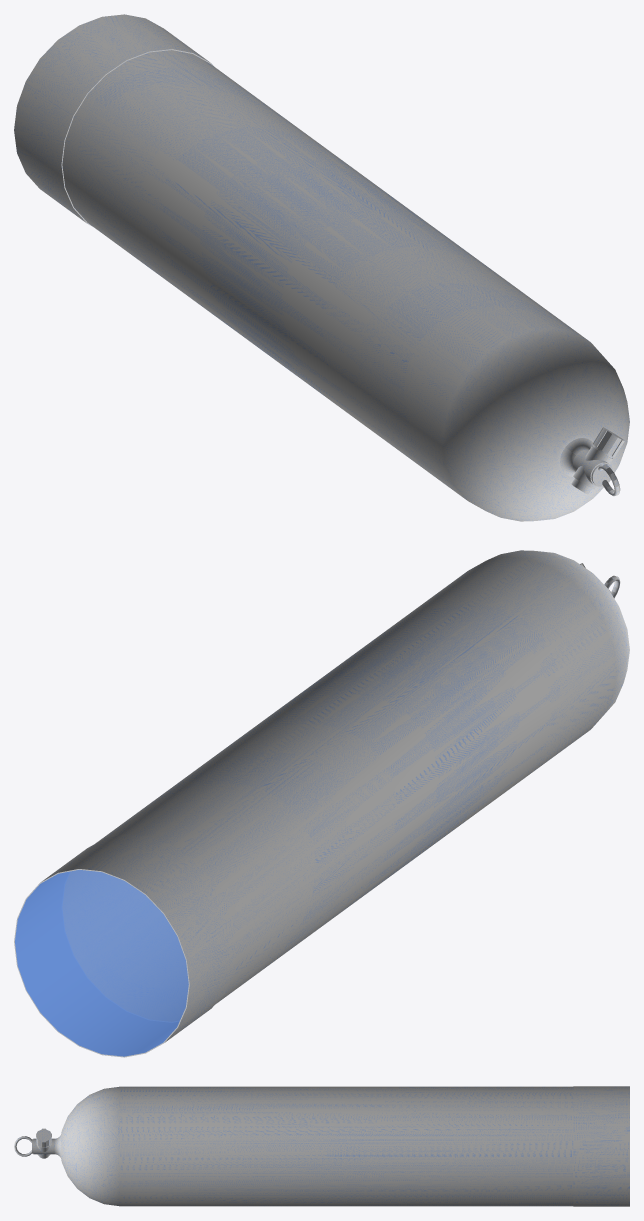
File: model_align.obj
The picture shows the model from 3 angles, top to bottom: view 1: azimuth 30°, elevation 25°; view 2: azimuth 150°, elevation 25°; view 3: azimuth 270°, elevation 25°; orthographic projection. The views are drawn at different scales.
Parts seen in each view (by area): view 1: mesh1_mesh1-geometry; view 2: mesh1_mesh1-geometry; view 3: mesh1_mesh1-geometry.
Boxes of the visible parts, box(x1,y1,x2,y2) form: mesh1_mesh1-geometry: box(14, 14, 629, 521); mesh1_mesh1-geometry: box(14, 550, 629, 1057); mesh1_mesh1-geometry: box(14, 1086, 629, 1206).
Size of the model in its own units: 0.0391 by 0.0391 by 0.1989.
